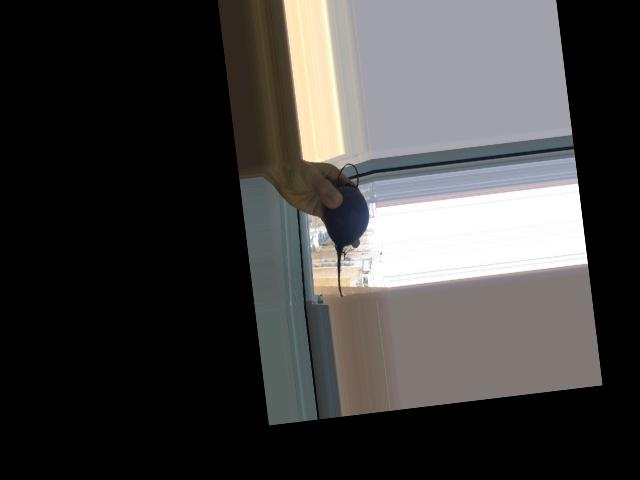beet: (318, 162, 378, 298)
